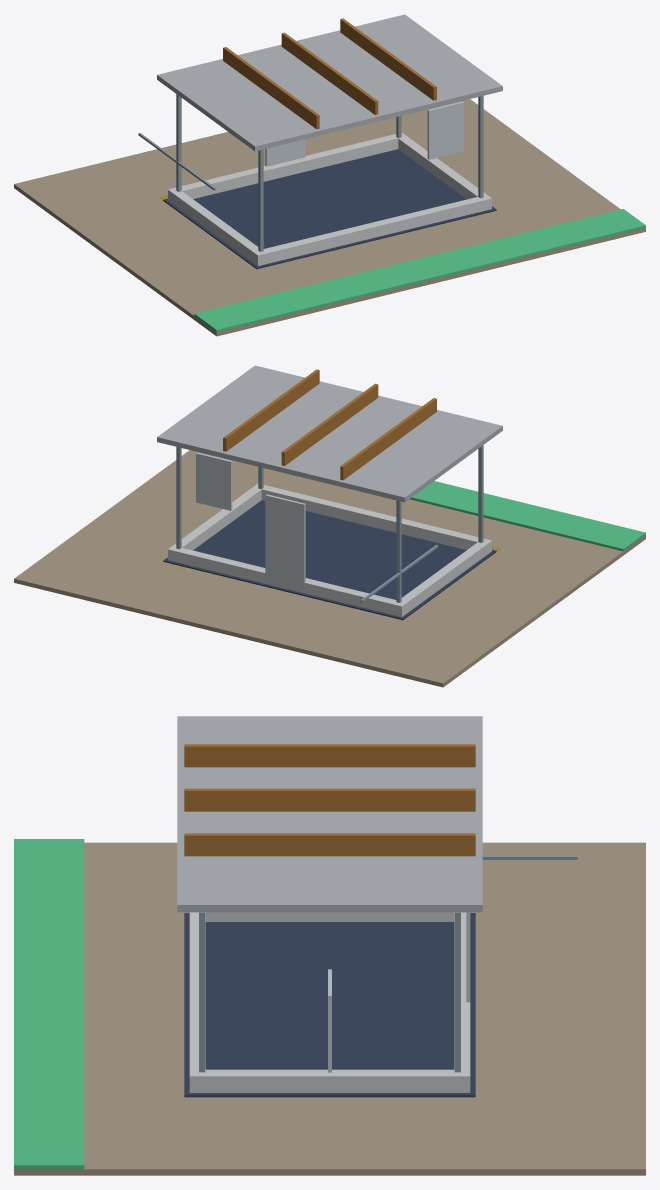
Rendered from stage_11_finishing.glb.
3 renders of one model, top to bottom at view 1: azimuth 30°, elevation 25°; view 2: azimuth 150°, elevation 25°; view 3: azimuth 270°, elevation 25°, orthographic. The views are drawn at different scales.
Parts seen in each view (by area): view 1: world; view 2: world; view 3: world.
Boxes of the visible parts, x1,y1,x2,y2 form: world: (14, 14, 645, 336); world: (14, 365, 645, 687); world: (14, 716, 645, 1175).
Bounding box in the file's own units: 11 × 4.2 × 9.
